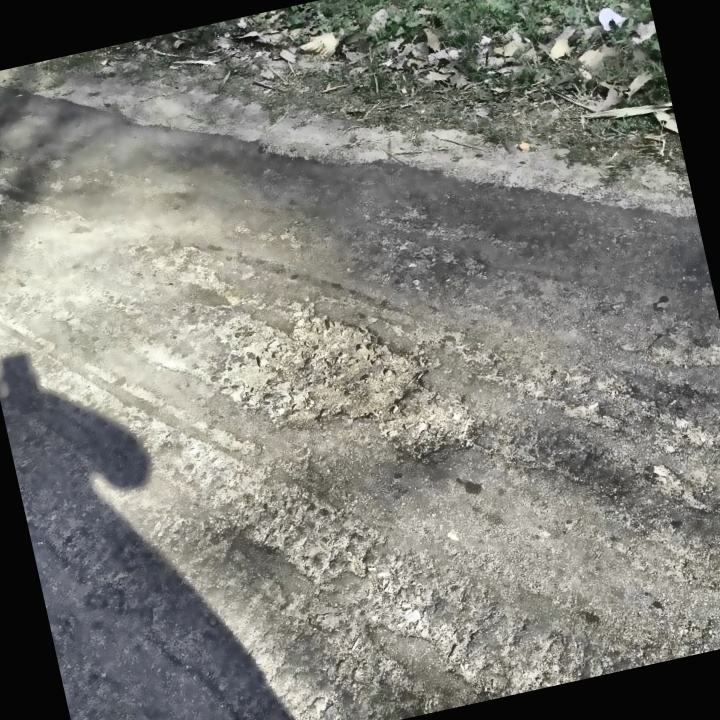pothole: (211, 282, 444, 450), (374, 396, 482, 474)
